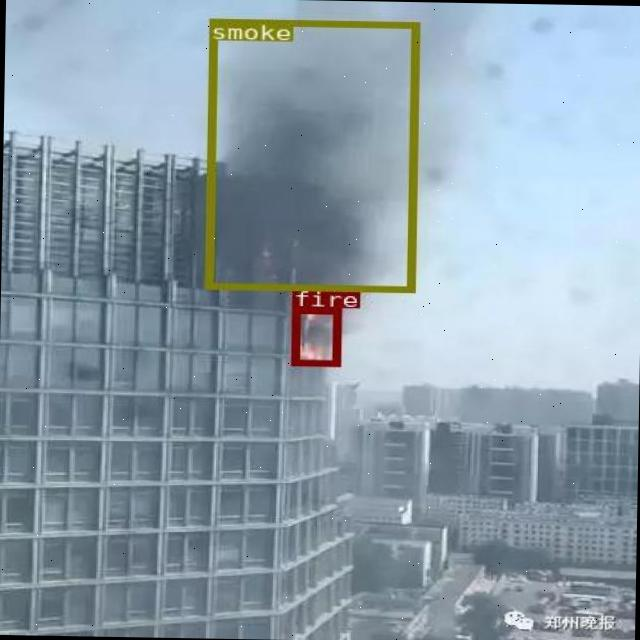fire: (290, 306, 339, 364)
smoke: (204, 18, 418, 291)
